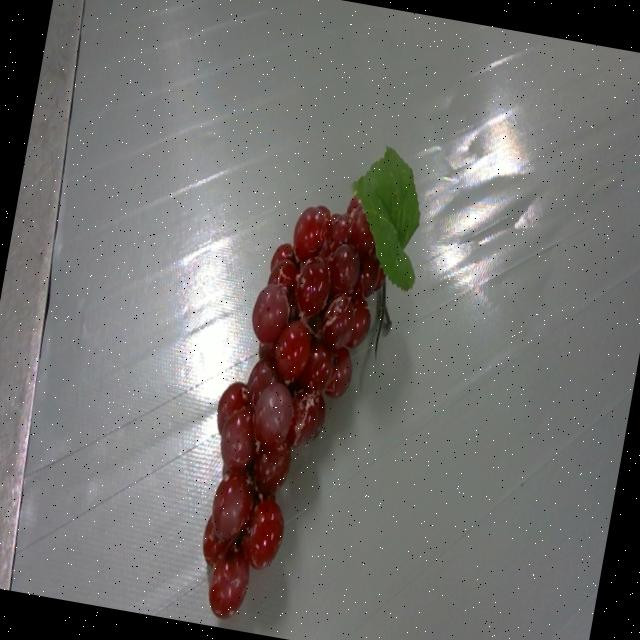grape: (201, 149, 418, 617)
